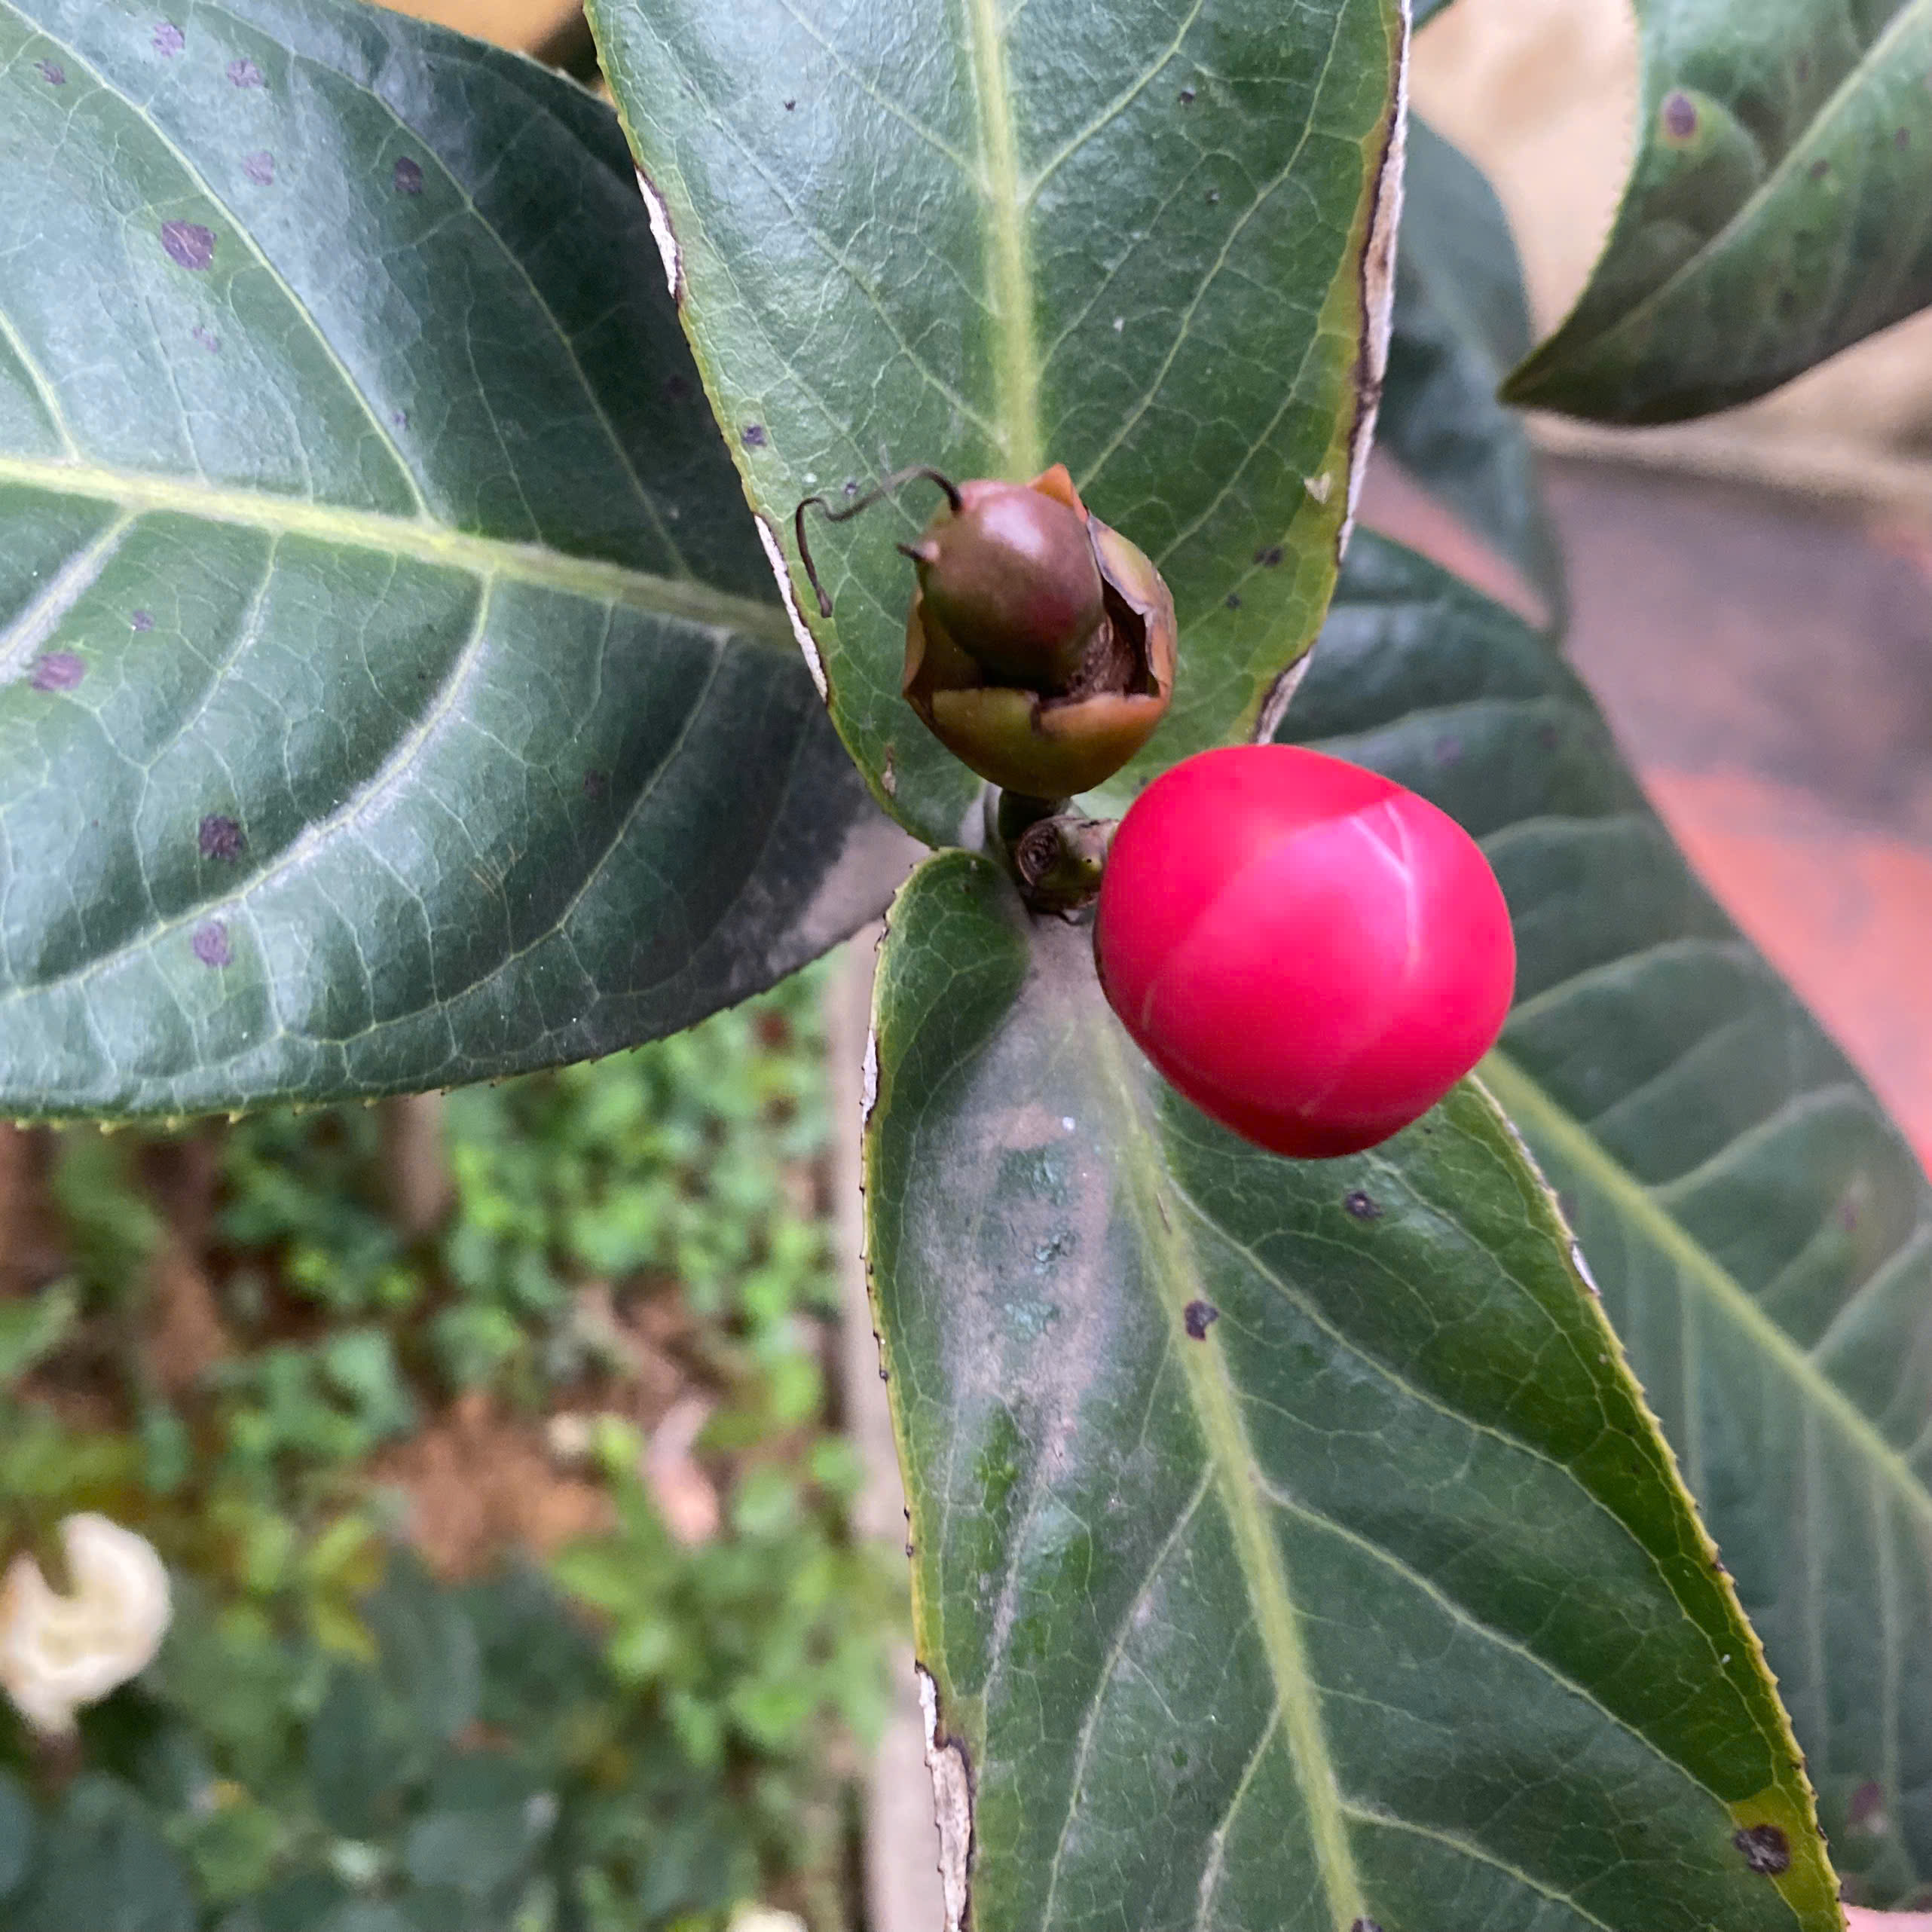hoa_hai_duong: (474, 124, 1875, 1932)
